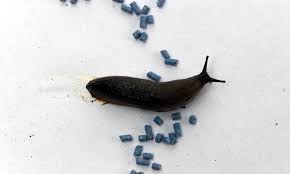slug: (93, 67, 220, 116)
